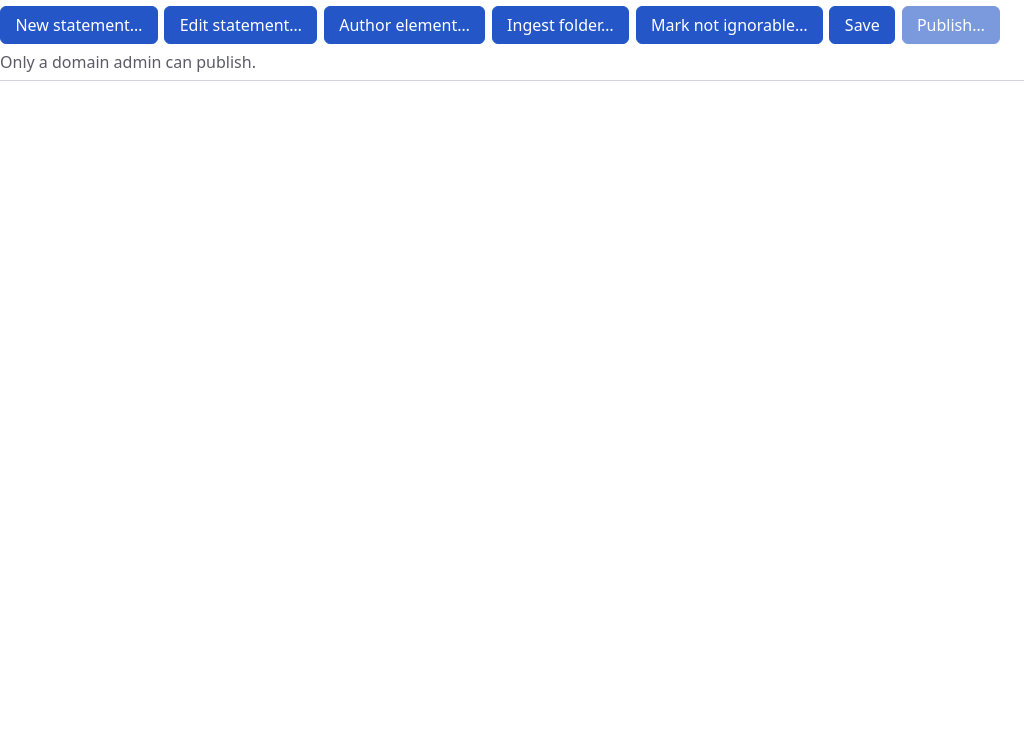
Test: author_dialog › concept_without_definition_from_a_statement
The width and height of the screenshot is (1024, 755).
Click the button "Author element…" at x=405, y=25, box [324,6,485,44]
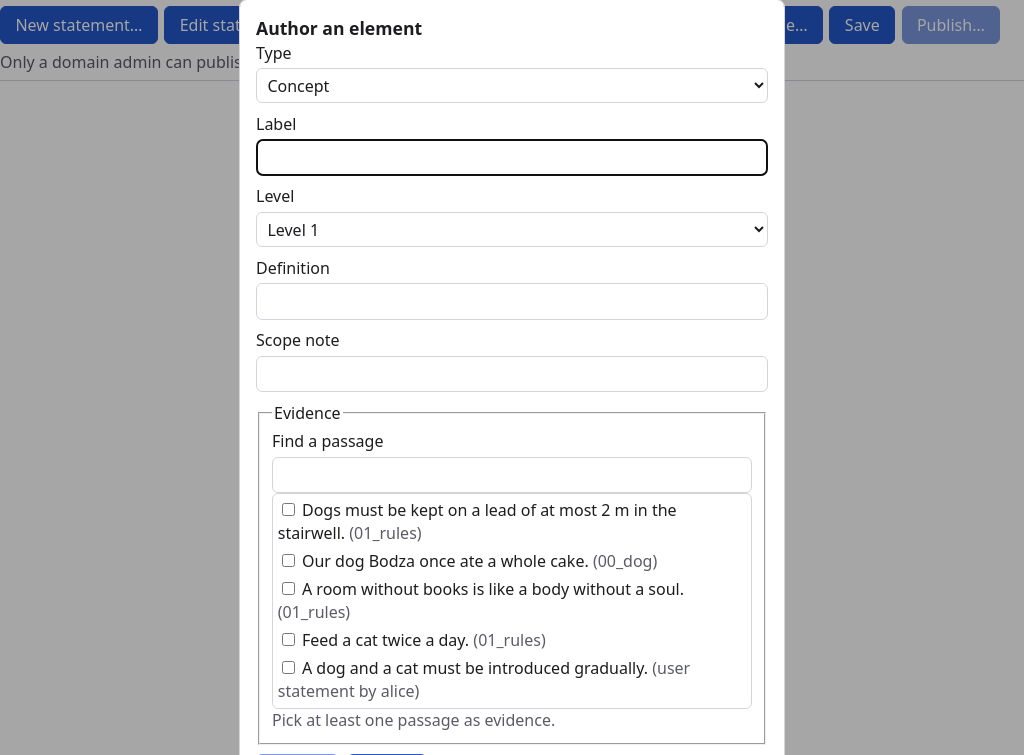
Expected: the search field labelled "Find a passage" is shown, [272,457,752,493]
Type "gradual introduction" into the field labelled "Label" at x=512, y=158, box [256,139,768,176]
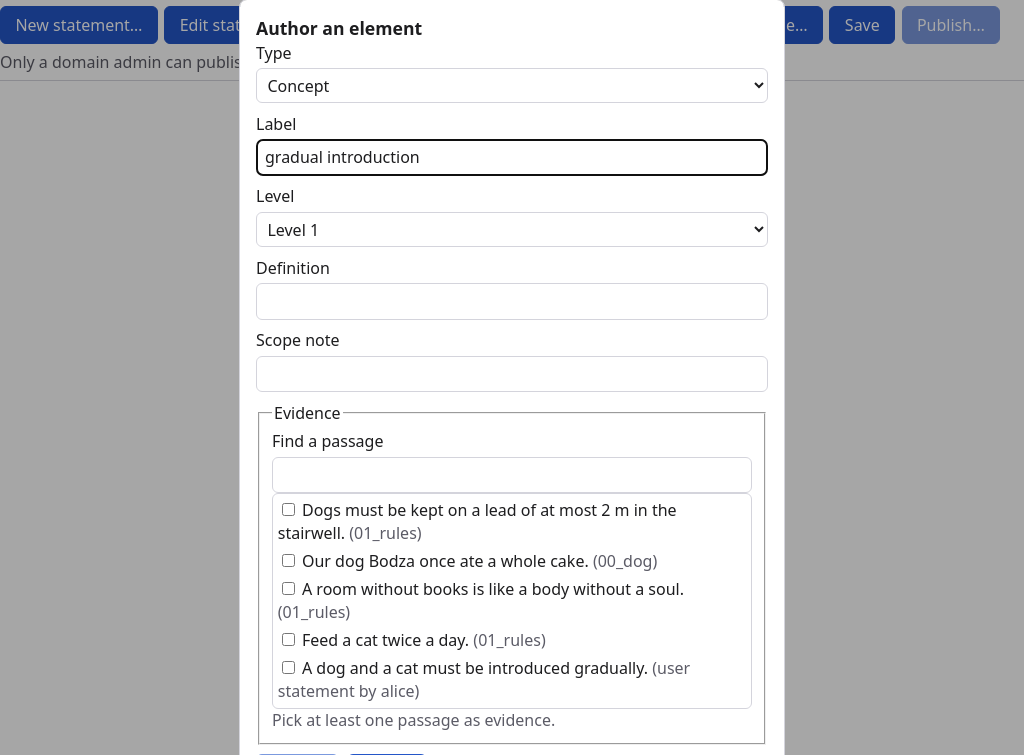
Select "Level 2" in the dropdown labelled "Level" at x=512, y=230, box [256,212,768,247]
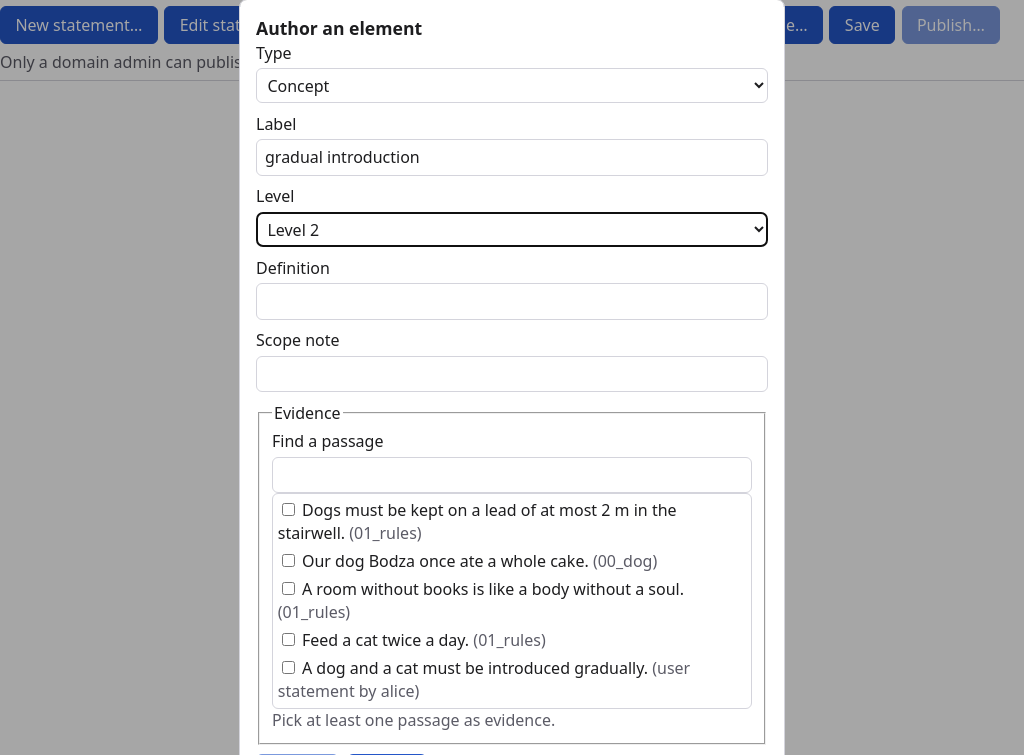
Click the 5th checkbox at x=288, y=668, box [282,661,295,674]
(page scrolled)
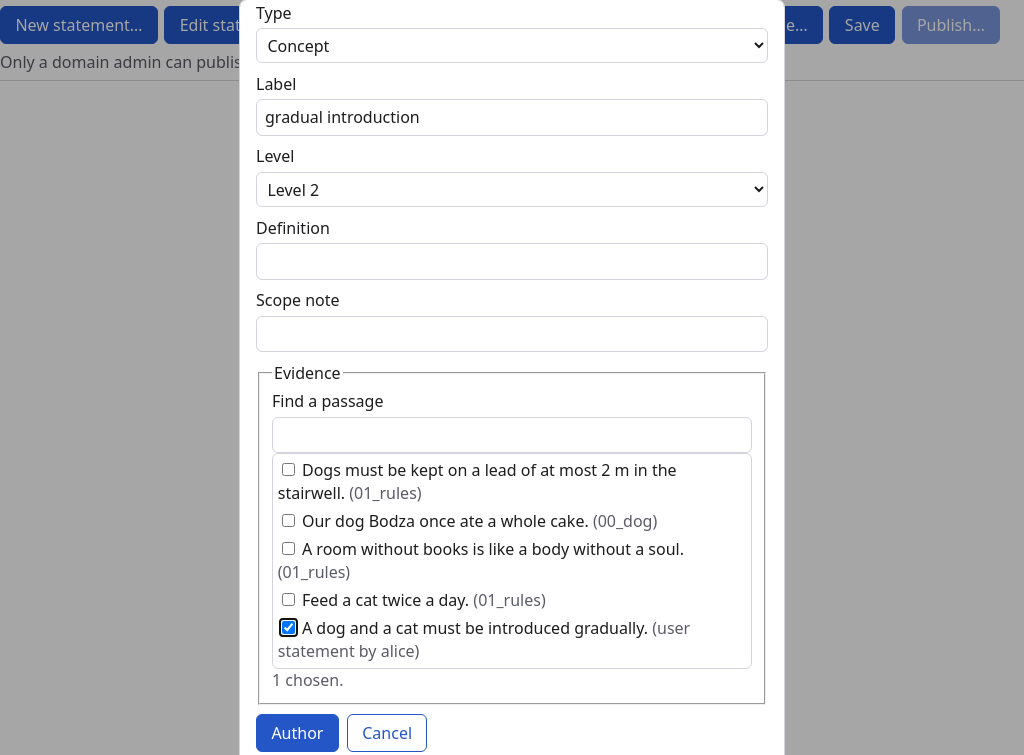
Click the button "Author" at x=297, y=733, box [256,714,339,752]
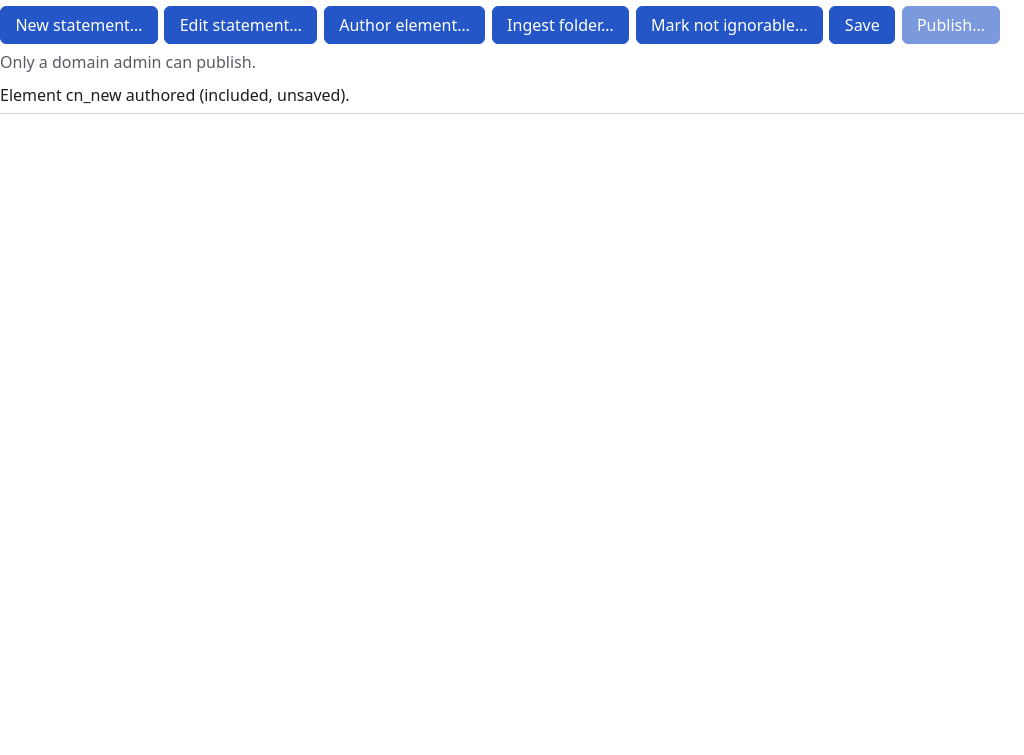
Expected: the message shows "cn_new", [0,84,350,106]
